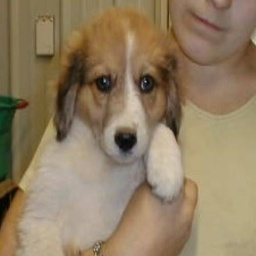dog: (15, 8, 182, 255)
